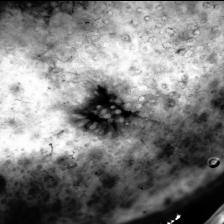Potentially Malignant Skin Tumors: (84, 96, 124, 133)
